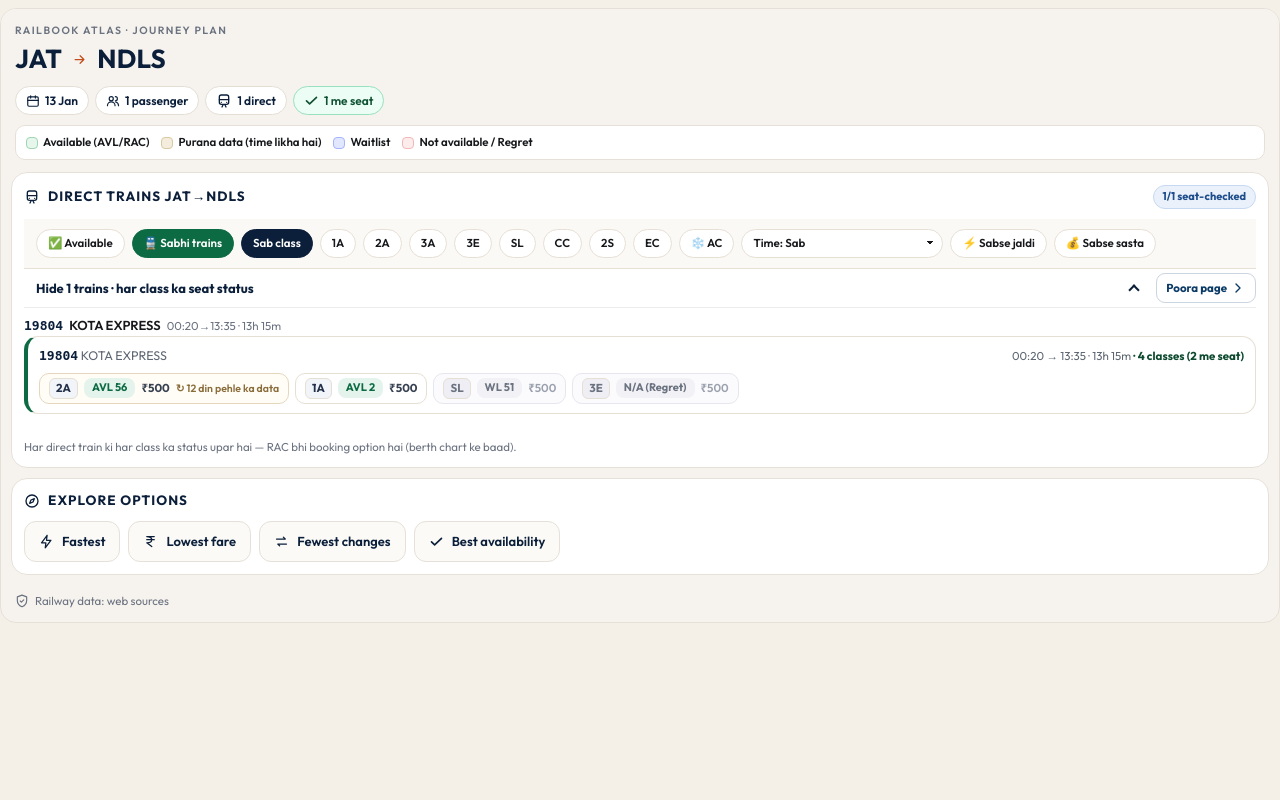
Scenario: Round-18m-26 colour scheme › journey card: legend on top; AVL green, stale AVL tan + '12 din pehle ka data', WL blue, N/A red
Check: the element with class "jx-legend" shows "Available (AVL/RAC)", box [43,134,150,149]
Check: the element with class "jx-legend" shows "Purana data", box [178,134,322,149]
Click the button "Fastest". click: (72, 541)
box: [24,521,120,562]
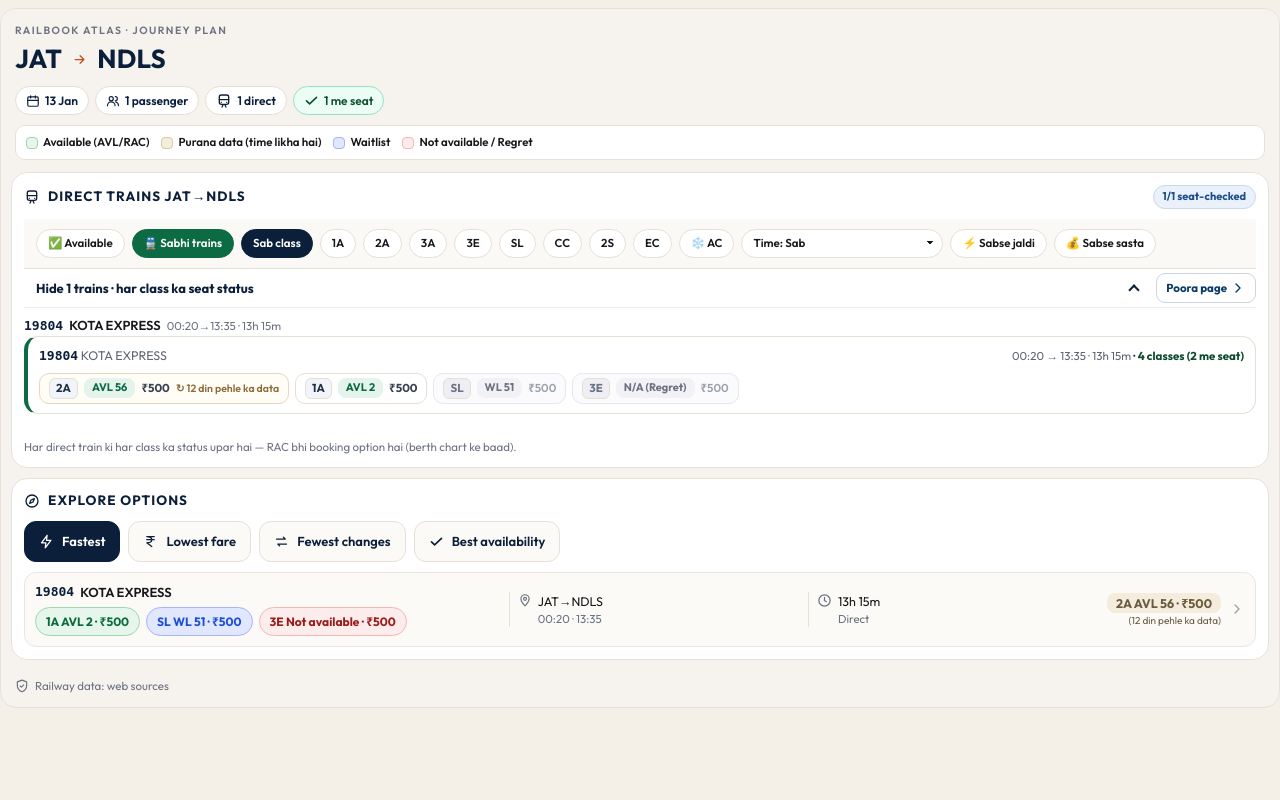
Check: the element with class "jx-seat" shows "12 din pehle ka data", box [1132,614,1218,627]
Check: the element with class "jx-seat" shows "2A AVL 56", box [1116,594,1212,610]
